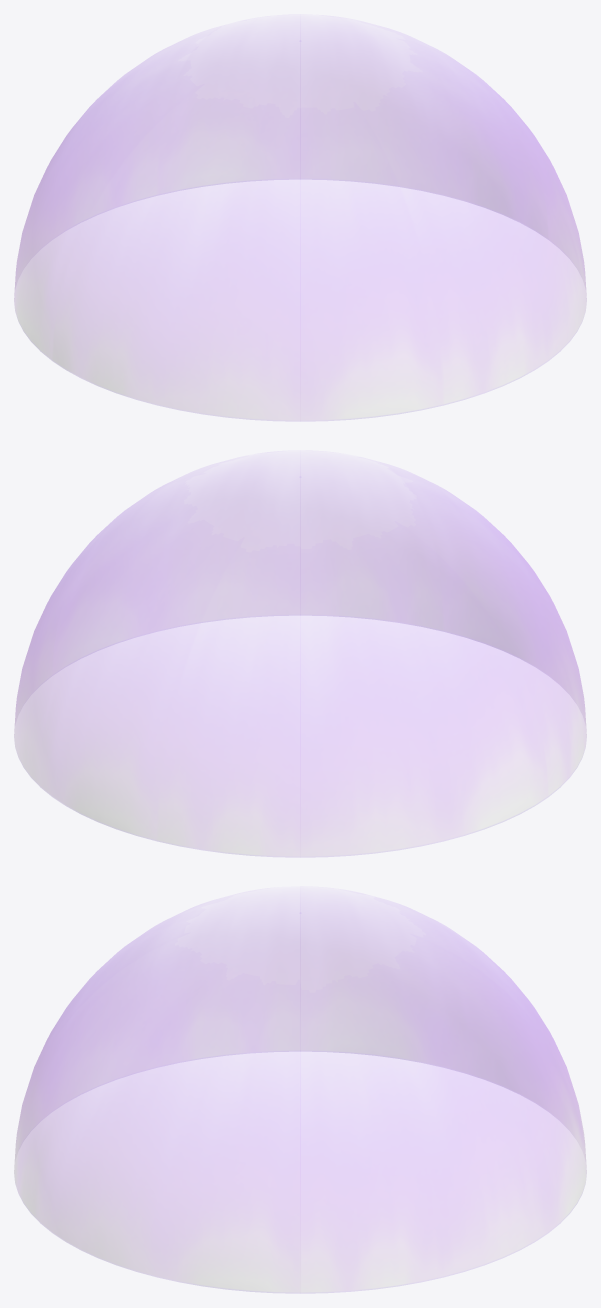
Rendered from shock_dome_arcane.glb.
3 renders of one model, top to bottom at view 1: azimuth 30°, elevation 25°; view 2: azimuth 150°, elevation 25°; view 3: azimuth 270°, elevation 25°, orthographic.
Parts seen in each view (by area): view 1: dome; view 2: dome; view 3: dome.
Part boxes in pixels (x1=…): dome: x1=14, y1=26, x2=586, y2=421; dome: x1=14, y1=466, x2=586, y2=857; dome: x1=14, y1=899, x2=586, y2=1293.
Bounding box in the file's own units: 2 × 1 × 2.
1 material, 1 textured.
